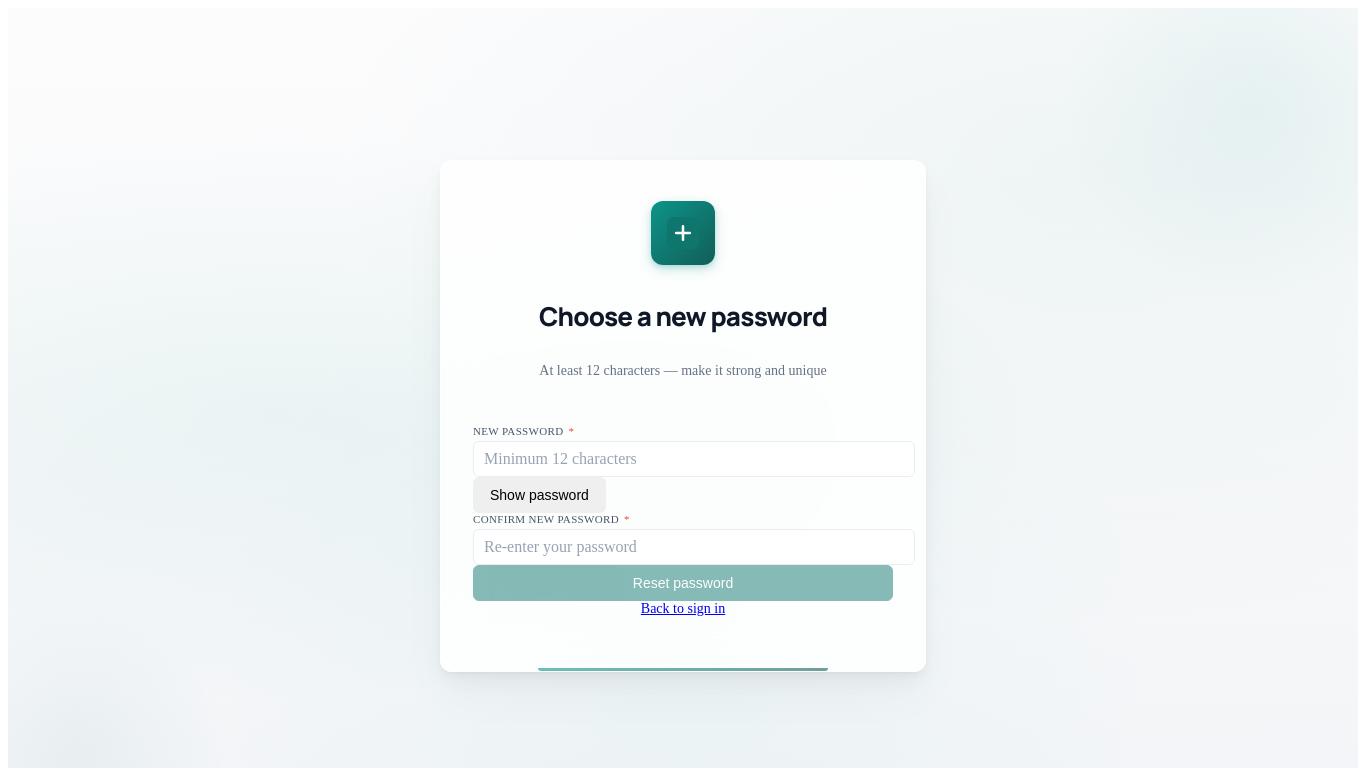
Test case: ResetPasswordPage › shows a mismatch warning and disables submit until passwords agree
In the password field labelled "New password *": (694, 459) [473,441,915,477], type "a-brand-new-password-123"
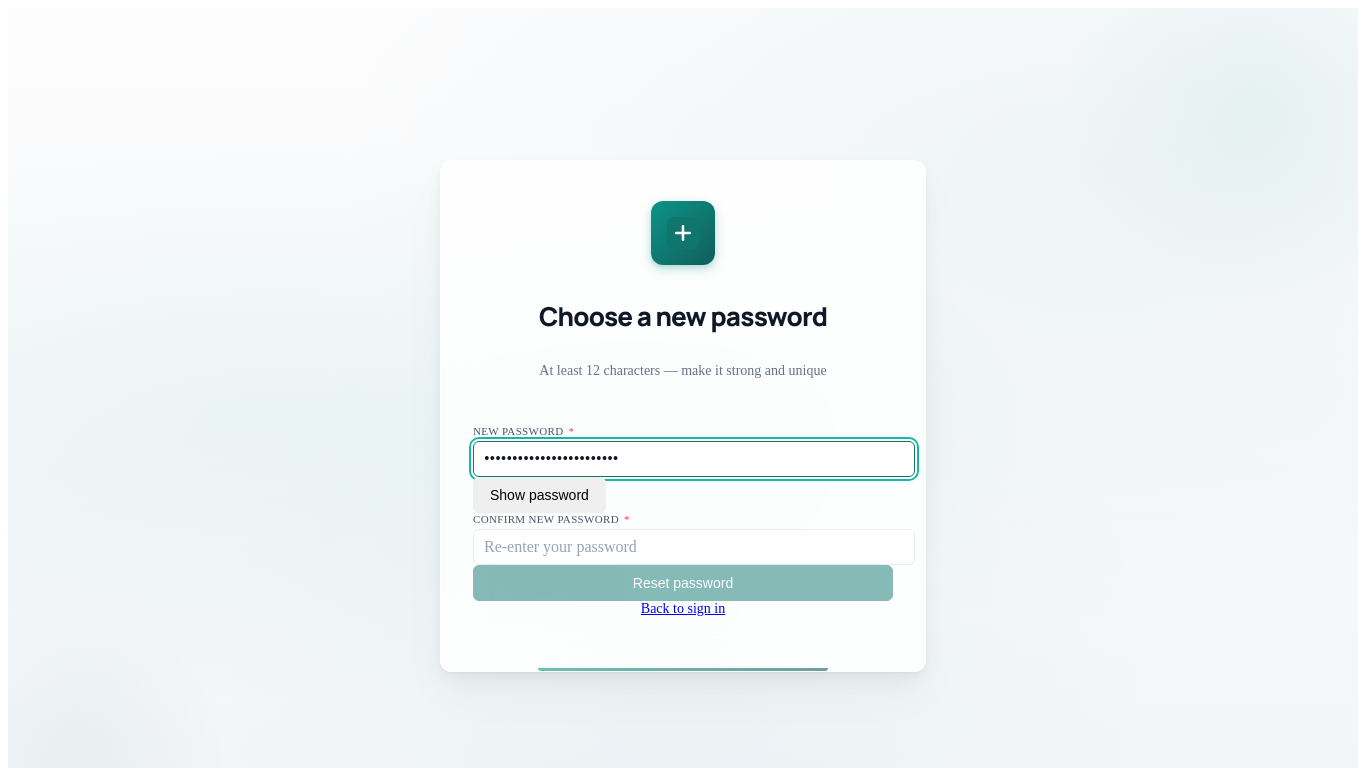
In the password field labelled "Confirm new password *": (694, 547) [473,529,915,565], type "different-password-456"
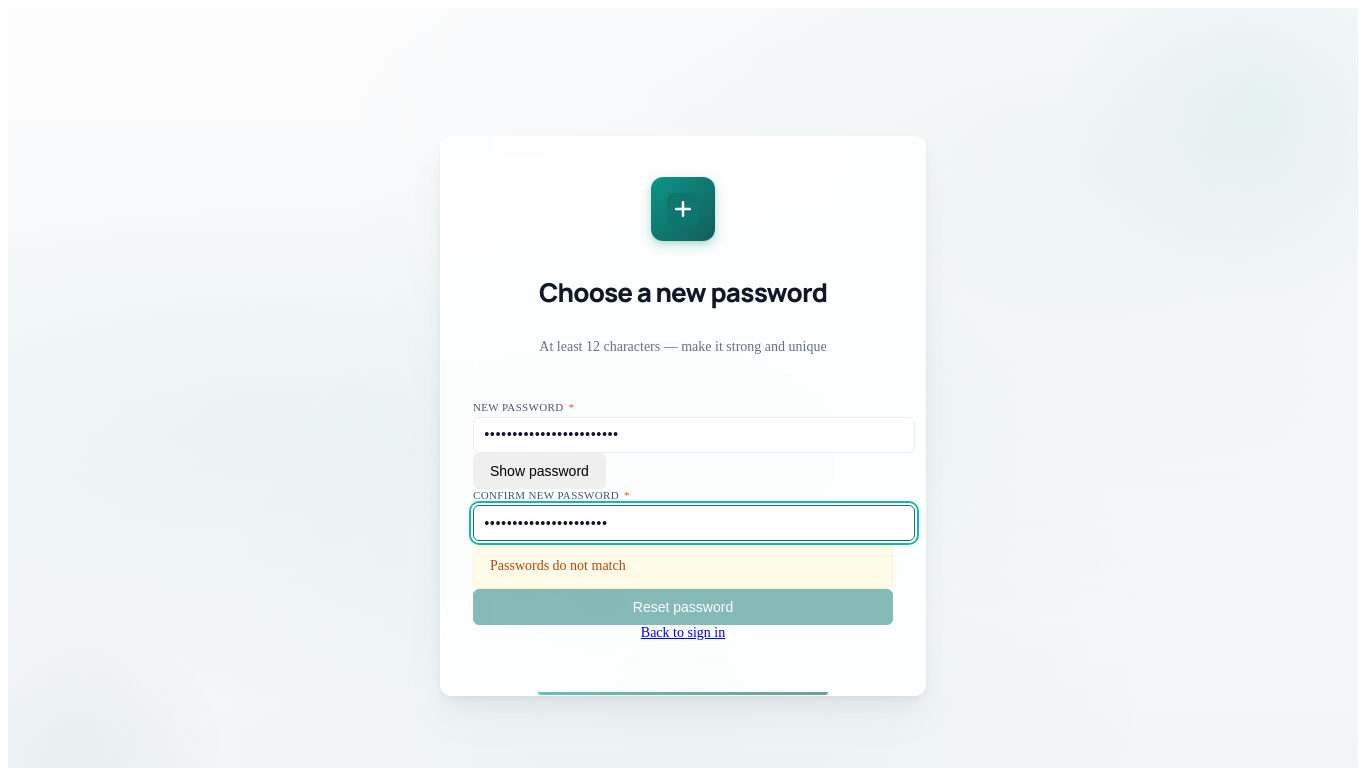
Expected: the button "Reset password" is disabled, [473,589,893,625]
Expected: the message "Passwords do not match" is shown, [473,542,893,589]
Clear the password field labelled "Confirm new password *": (694, 524) [473,506,915,542]
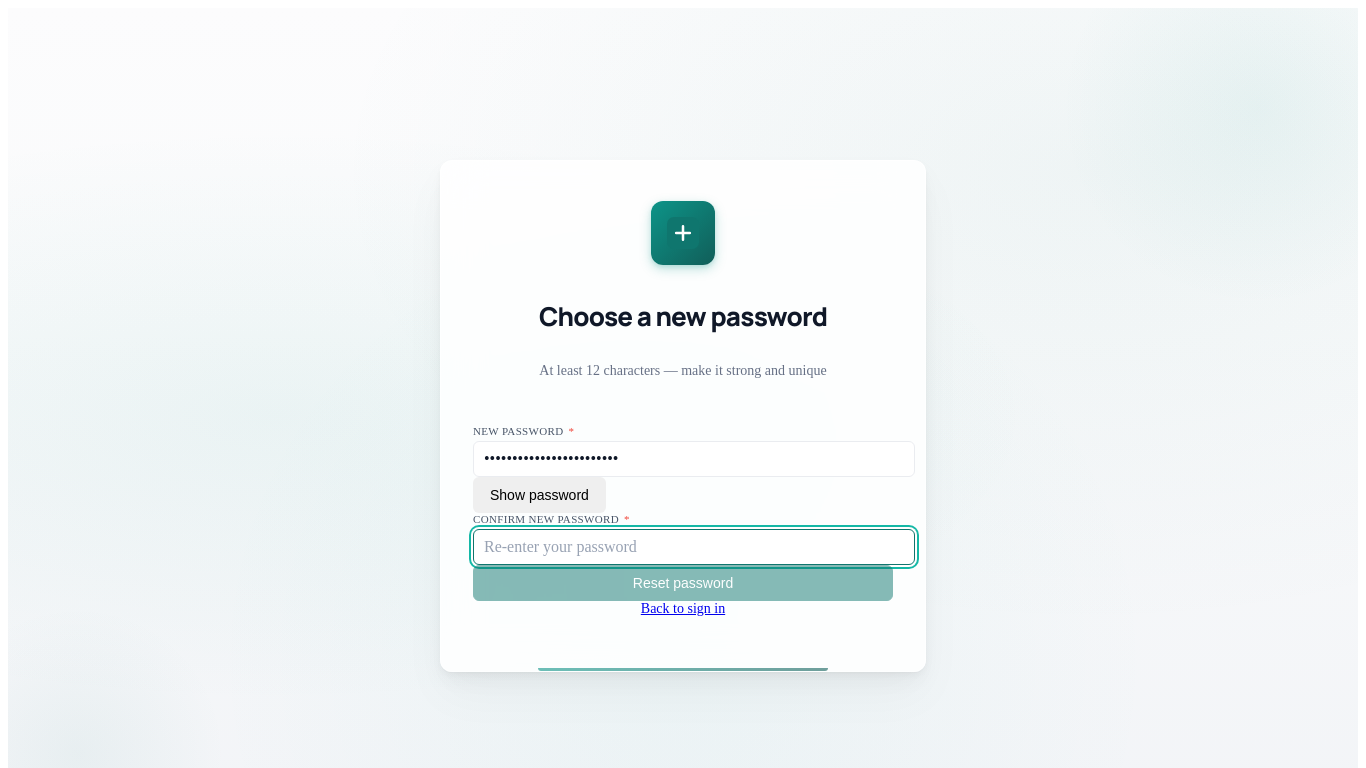
In the password field labelled "Confirm new password *": (694, 547) [473,529,915,565], type "a-brand-new-password-123"
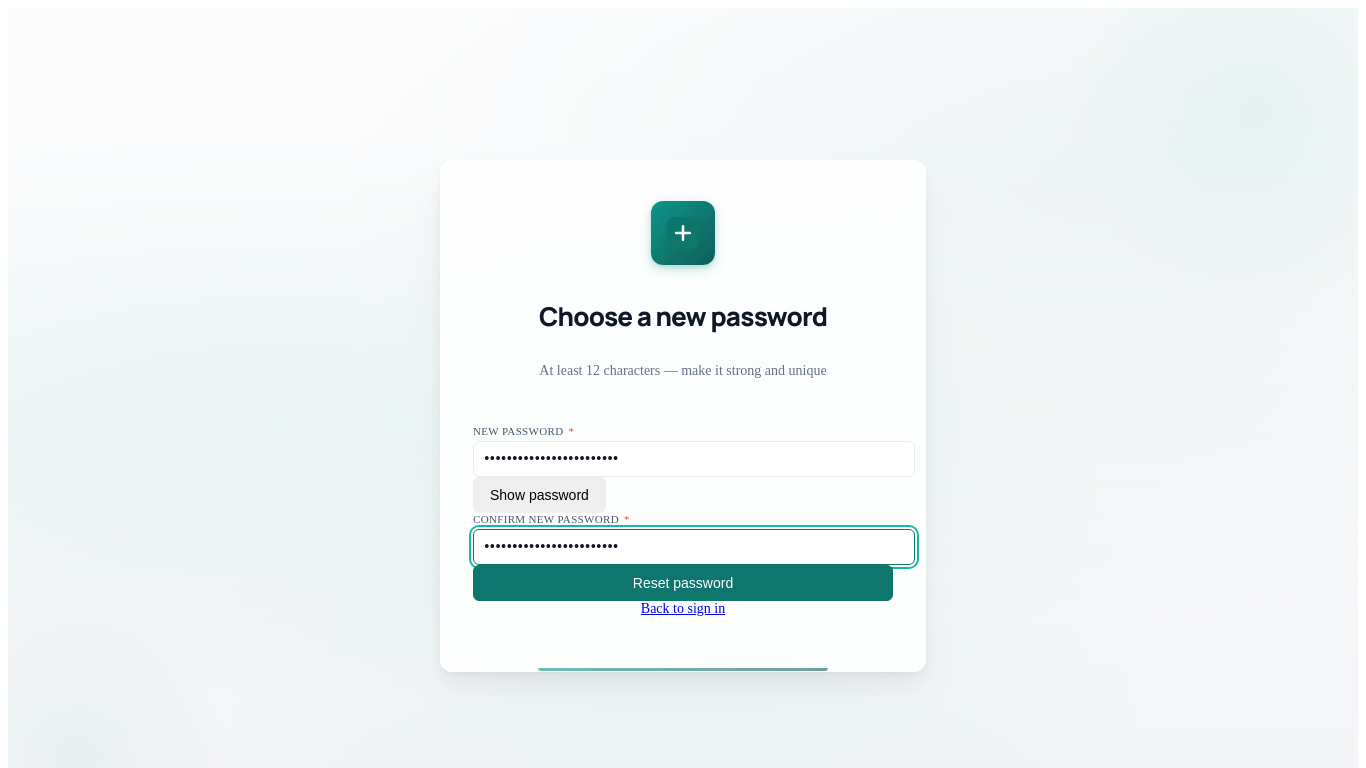
Expected: the button "Reset password" is enabled, [473,565,893,601]
